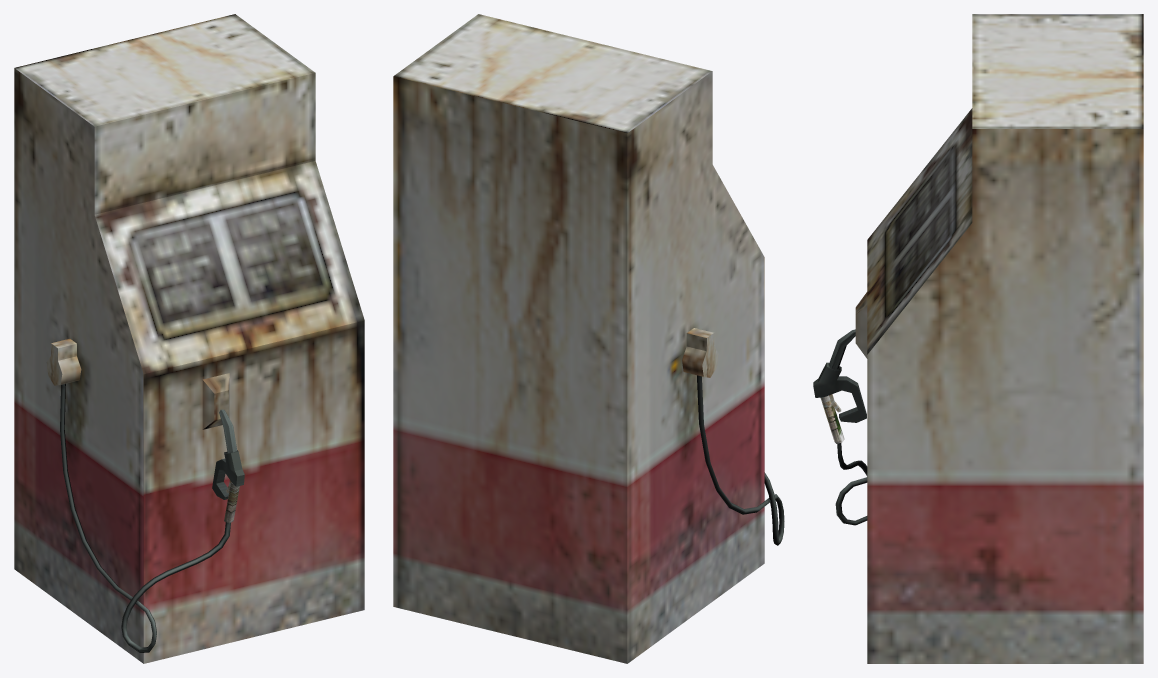
File: RefuelingtableB.FBX
3 renders of one model, left to right at view 1: azimuth 30°, elevation 25°; view 2: azimuth 150°, elevation 25°; view 3: azimuth 270°, elevation 25°, orthographic. The views are drawn at different scales.
Parts seen in each view (by area): view 1: RefuelingtableB; view 2: RefuelingtableB; view 3: RefuelingtableB.
Boxes of the visible parts, box(x1,y1,x2,y2) form: RefuelingtableB: box(14, 14, 364, 663); RefuelingtableB: box(393, 14, 784, 663); RefuelingtableB: box(813, 14, 1143, 663).
Bounding box in the file's own units: 78.7 × 157 × 87.89.
